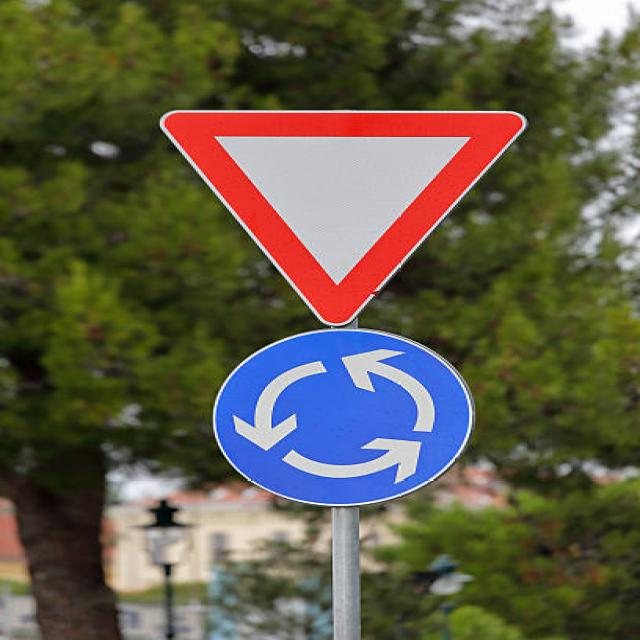give_way: (147, 96, 516, 334)
